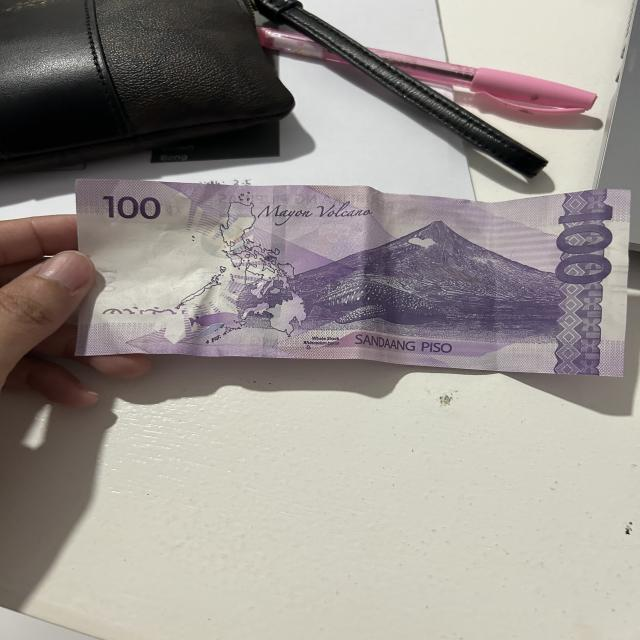100_whale: (290, 276, 454, 330)
100_whale_watermark: (187, 309, 250, 336)
value_watermark: (94, 264, 123, 297)
